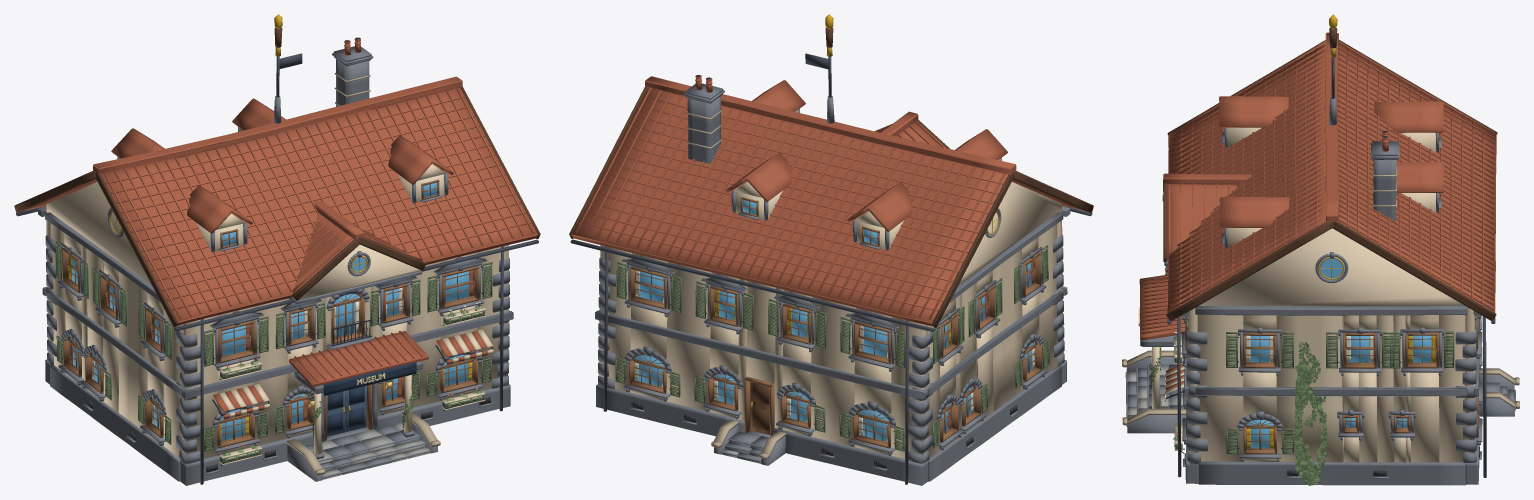
The model's file is Museum_Ext_Architecture.fbx.
3 views of the same model, side by side, from view 1: azimuth 30°, elevation 25°; view 2: azimuth 150°, elevation 25°; view 3: azimuth 270°, elevation 25° (orthographic). The views are drawn at different scales.
Parts seen in each view (by area): view 1: Ext_Roof_Main, Ext_Walls, Ext_Window_Frames, Ext_Entrance, Ext_Trim_Stone, Ext_Plinth, Ext_Roof_Dormers, Ext_Shutters, Ext_Window_Glass, Ext_Roof_CrossGable, Ext_Awnings, Ext_Gutters (+4 smaller); view 2: Ext_Roof_Main, Ext_Walls, Ext_Window_Frames, Ext_Trim_Stone, Ext_Plinth, Ext_Roof_Dormers, Ext_Shutters, Ext_Window_Glass, Ext_Entrance, Ext_Gutters, Ext_Chimney, Ext_Roof_CrossGable (+2 smaller); view 3: Ext_Roof_Main, Ext_Walls, Ext_Trim_Stone, Ext_Roof_Dormers, Ext_Entrance, Ext_Window_Frames, Ext_Plinth, Ext_Roof_CrossGable, Ext_Facade_Details, Ext_Shutters, Ext_Window_Glass, Ext_Chimney (+3 smaller).
Part boxes in pixels (x1=…): Ext_Roof_Main: x1=14, y1=76, x2=540, y2=327; Ext_Walls: x1=46, y1=181, x2=508, y2=462; Ext_Window_Frames: x1=57, y1=242, x2=487, y2=455; Ext_Entrance: x1=107, y1=208, x2=440, y2=481; Ext_Trim_Stone: x1=38, y1=206, x2=513, y2=463; Ext_Plinth: x1=45, y1=359, x2=510, y2=485; Ext_Roof_Dormers: x1=111, y1=98, x2=453, y2=252; Ext_Shutters: x1=55, y1=241, x2=492, y2=451; Ext_Window_Glass: x1=69, y1=255, x2=473, y2=441; Ext_Roof_CrossGable: x1=292, y1=200, x2=426, y2=300; Ext_Awnings: x1=212, y1=329, x2=493, y2=419; Ext_Gutters: x1=16, y1=206, x2=538, y2=484; Ext_Roof_Main: x1=569, y1=76, x2=1093, y2=328; Ext_Walls: x1=599, y1=182, x2=1063, y2=458; Ext_Window_Frames: x1=621, y1=247, x2=1047, y2=455; Ext_Trim_Stone: x1=595, y1=206, x2=1070, y2=463; Ext_Plinth: x1=596, y1=360, x2=1066, y2=485; Ext_Roof_Dormers: x1=726, y1=80, x2=1007, y2=250; Ext_Shutters: x1=615, y1=245, x2=1049, y2=451; Ext_Window_Glass: x1=634, y1=259, x2=1035, y2=441; Ext_Entrance: x1=711, y1=208, x2=1001, y2=465; Ext_Gutters: x1=570, y1=205, x2=1092, y2=484; Ext_Chimney: x1=683, y1=75, x2=724, y2=163; Ext_Roof_CrossGable: x1=874, y1=111, x2=949, y2=148; Ext_Roof_Main: x1=1166, y1=32, x2=1497, y2=321; Ext_Walls: x1=1164, y1=228, x2=1474, y2=462; Ext_Trim_Stone: x1=1184, y1=306, x2=1479, y2=464; Ext_Roof_Dormers: x1=1219, y1=96, x2=1444, y2=248; Ext_Entrance: x1=1122, y1=195, x2=1519, y2=433; Ext_Window_Frames: x1=1181, y1=314, x2=1482, y2=461; Ext_Plinth: x1=1185, y1=406, x2=1479, y2=485; Ext_Roof_CrossGable: x1=1163, y1=173, x2=1251, y2=262; Ext_Facade_Details: x1=1150, y1=330, x2=1481, y2=485; Ext_Shutters: x1=1186, y1=318, x2=1477, y2=454; Ext_Window_Glass: x1=1246, y1=335, x2=1435, y2=448; Ext_Chimney: x1=1371, y1=131, x2=1399, y2=221.
Bounding box in the file's own units: 18.19 × 18.01 × 16.67.
